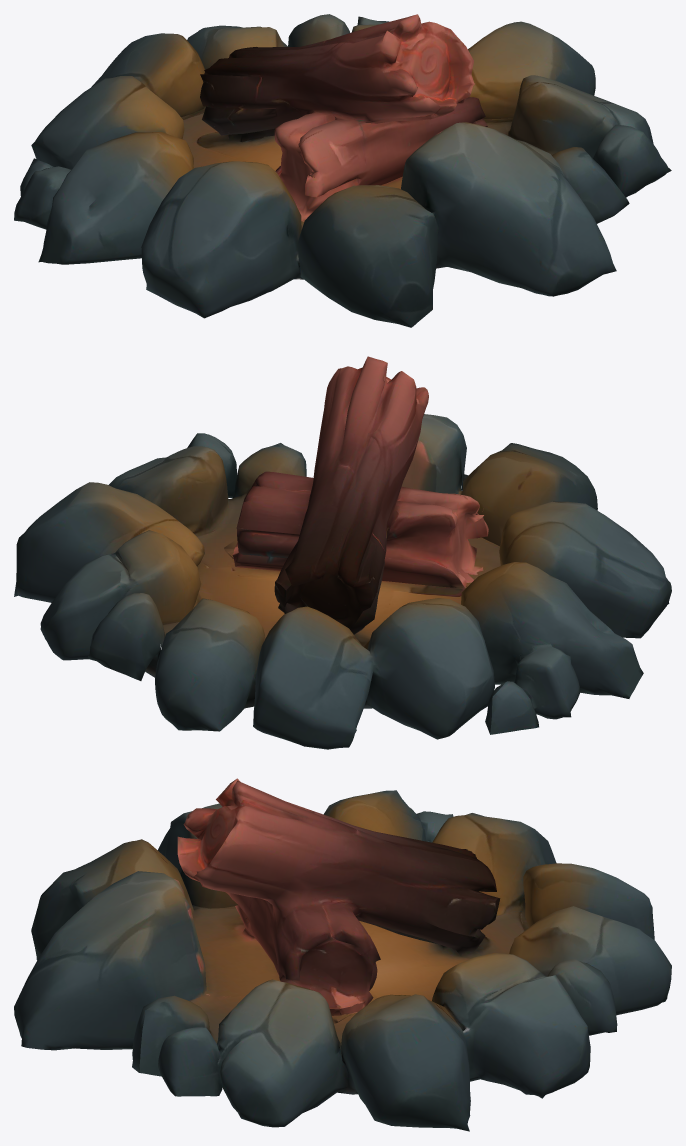
The model's file is CAMPFIRE_V2.glb.
The picture shows the model from 3 angles, top to bottom: view 1: azimuth 30°, elevation 25°; view 2: azimuth 150°, elevation 25°; view 3: azimuth 270°, elevation 25°; orthographic projection. The views are drawn at different scales.
Parts seen in each view (by area): view 1: tripo_node_a01ce325; view 2: tripo_node_a01ce325; view 3: tripo_node_a01ce325.
Part boxes in pixels (x1,y1,x2,y2): tripo_node_a01ce325: (14,14,671,327); tripo_node_a01ce325: (14,356,671,749); tripo_node_a01ce325: (14,778,671,1131).
Bounding box in the file's own units: 98.99 × 35.7 × 94.19.
Materials: 1 (1 with a texture image).
